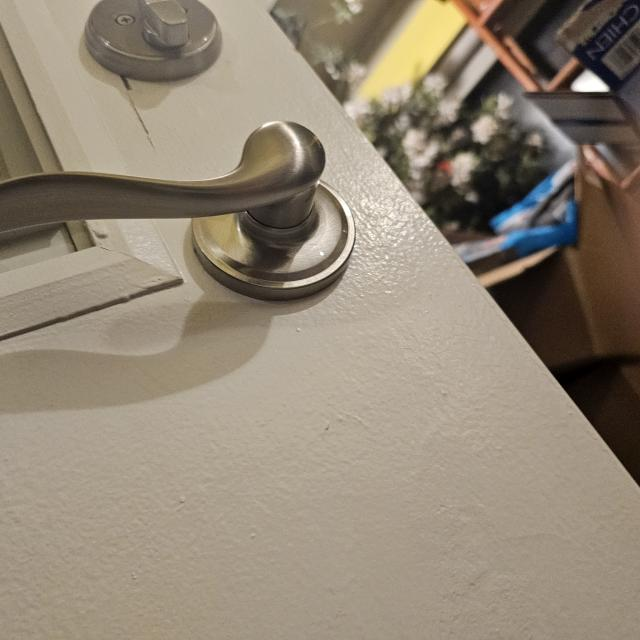door-handle: (0, 121, 355, 300)
